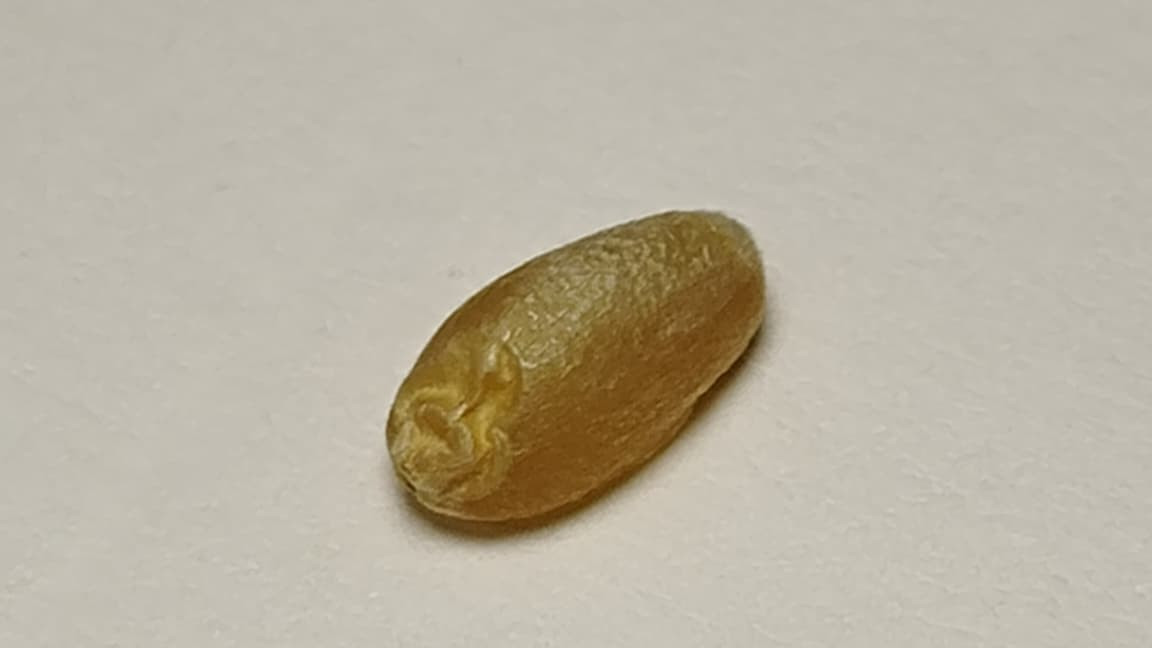healthy: (388, 211, 763, 524)
